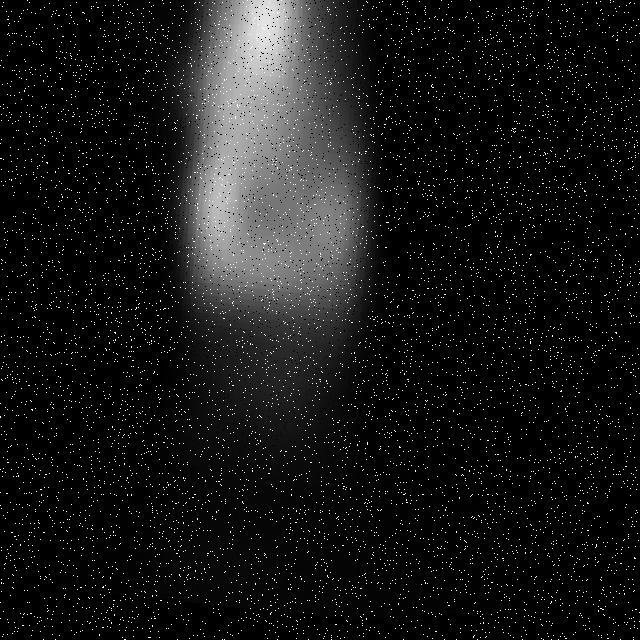person: (57, 1, 480, 510)
